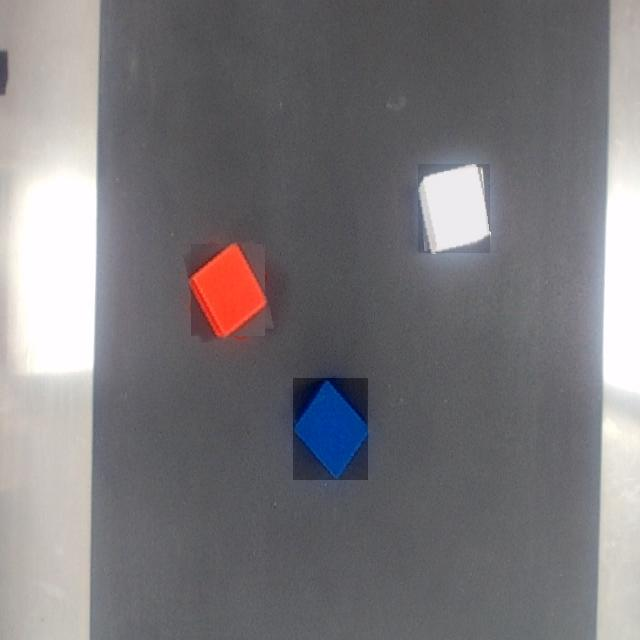Azul: (293, 378, 368, 480)
Blanco: (419, 164, 490, 253)
Rojo: (189, 242, 269, 338)
